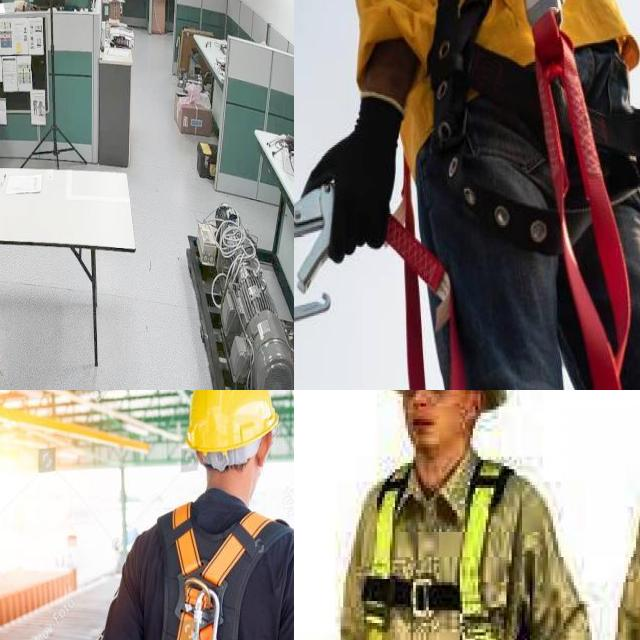Harness: (525, 0, 634, 390), (359, 459, 509, 640), (158, 503, 289, 640), (389, 184, 467, 390), (294, 187, 334, 294)
